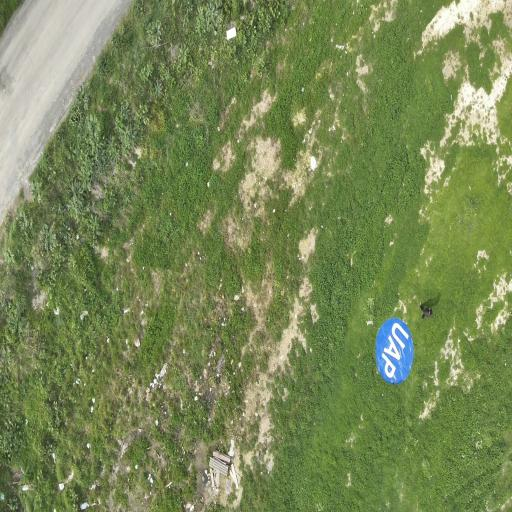UAP: (376, 318, 414, 384)
person: (420, 304, 432, 319)
